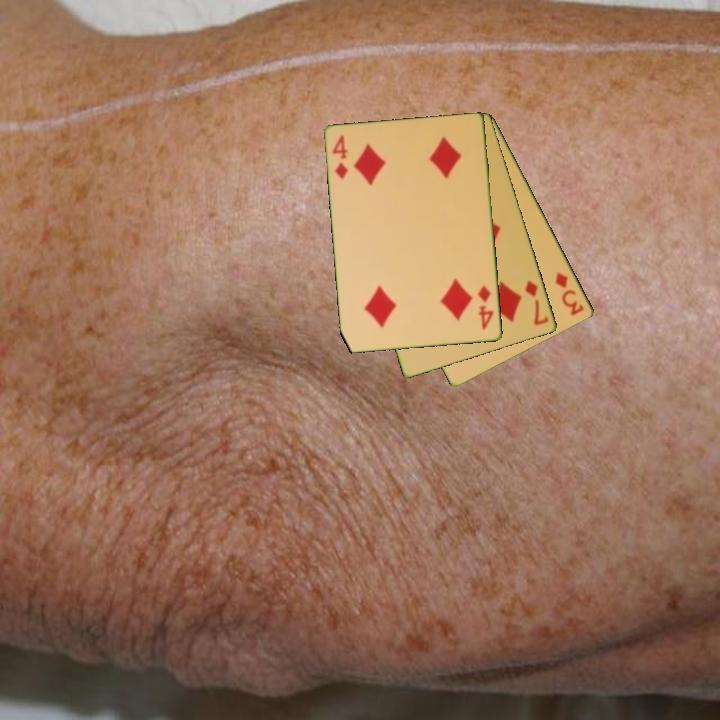3d: (552, 269, 587, 318)
4d: (475, 282, 497, 333), (329, 132, 351, 182)
7d: (521, 277, 551, 328)
